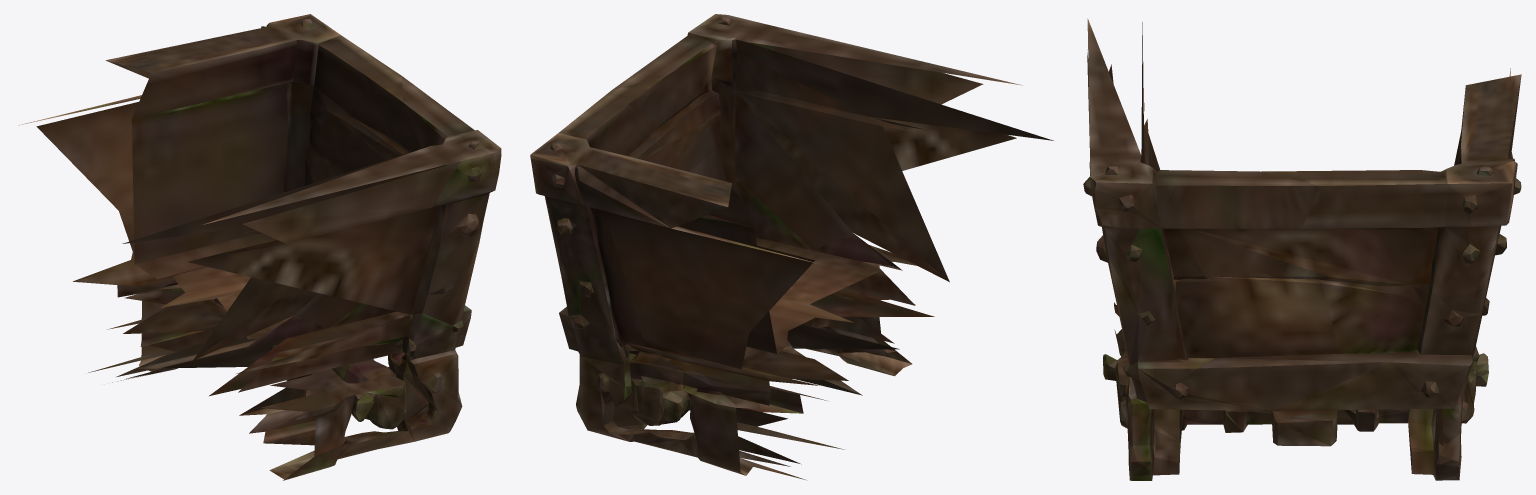
Rendered from leaf_cart_wreck_b.glb.
The picture shows the model from 3 angles, left to right: view 1: azimuth 30°, elevation 25°; view 2: azimuth 150°, elevation 25°; view 3: azimuth 270°, elevation 25°; orthographic projection. The views are drawn at different scales.
Parts seen in each view (by area): view 1: output_unwrapped; view 2: output_unwrapped; view 3: output_unwrapped.
Boxes of the visible parts, <box> form: output_unwrapped: <box>19,14,501,480</box>; output_unwrapped: <box>530,14,1053,480</box>; output_unwrapped: <box>1083,18,1521,480</box>.
Size of the model in its own units: 0.2947 by 0.2288 by 0.2744.
1 material, 1 textured.
